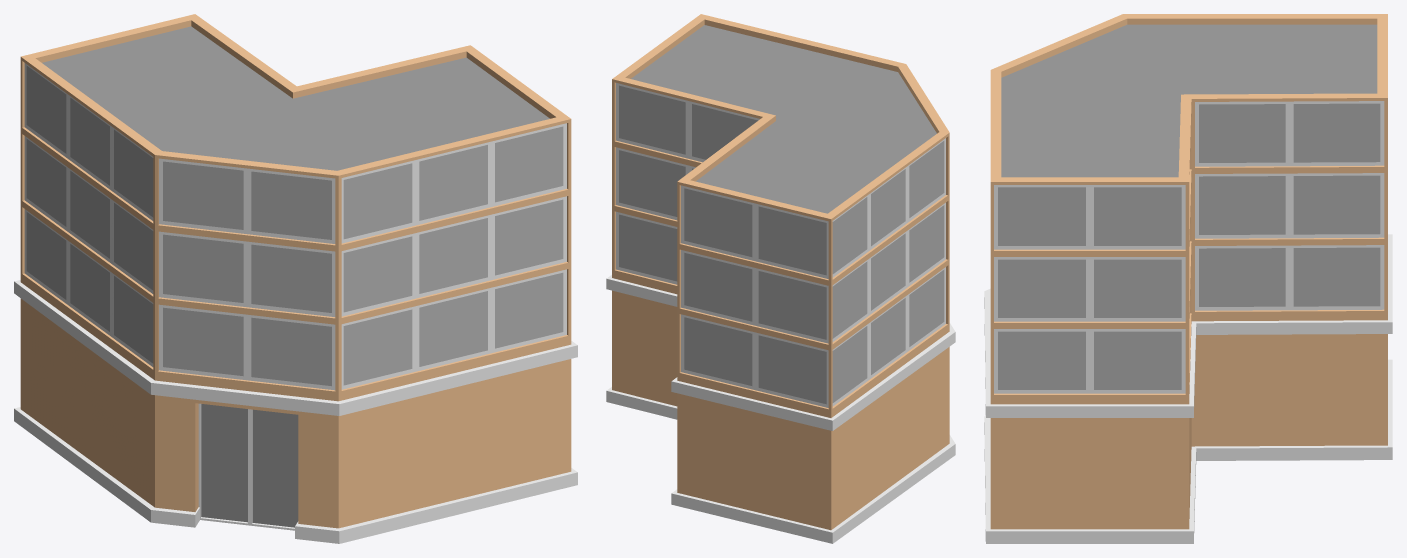
File: SM_House_13_01.FBX
3 views of the same model, side by side, from view 1: azimuth 30°, elevation 25°; view 2: azimuth 150°, elevation 25°; view 3: azimuth 270°, elevation 25° (orthographic). The views are drawn at different scales.
Parts seen in each view (by area): view 1: SM_House_13_01; view 2: SM_House_13_01; view 3: SM_House_13_01.
Part boxes in pixels (bbox=[...]): SM_House_13_01: bbox=[14, 14, 577, 543]; SM_House_13_01: bbox=[606, 14, 955, 543]; SM_House_13_01: bbox=[984, 14, 1392, 543].
Bounding box in the file's own units: 6.16 × 6 × 6.16.
Materials: 1 (1 with a texture image).
